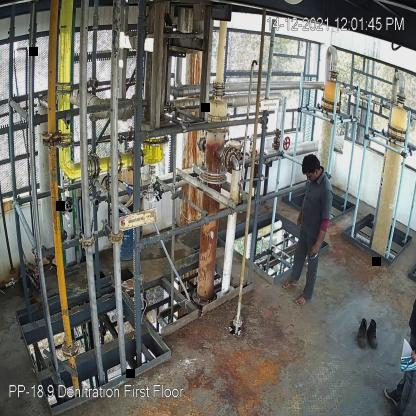no_shoes: (294, 291, 309, 306)
shoes: (356, 317, 371, 349), (368, 320, 379, 348)
